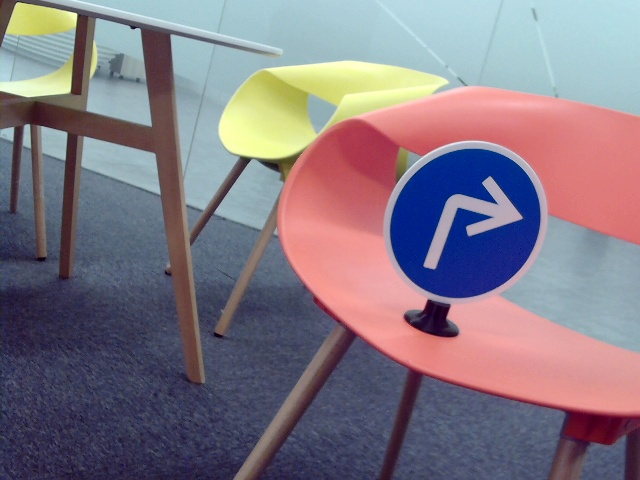turn_right: (428, 170, 522, 279)
